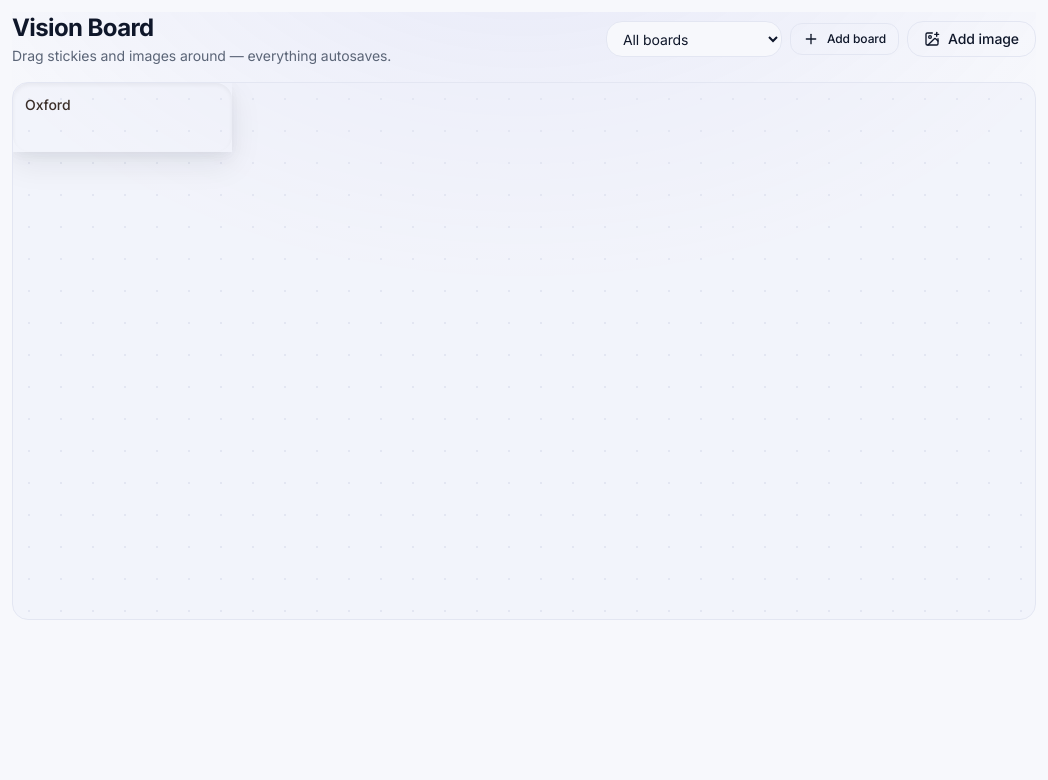
Test: the vision board switcher › scopes the canvas to the chosen board instead of only opening rename
Select "Travel more" in the dropdown named "Switch vision board": (694, 39) 606,21 -> 782,57
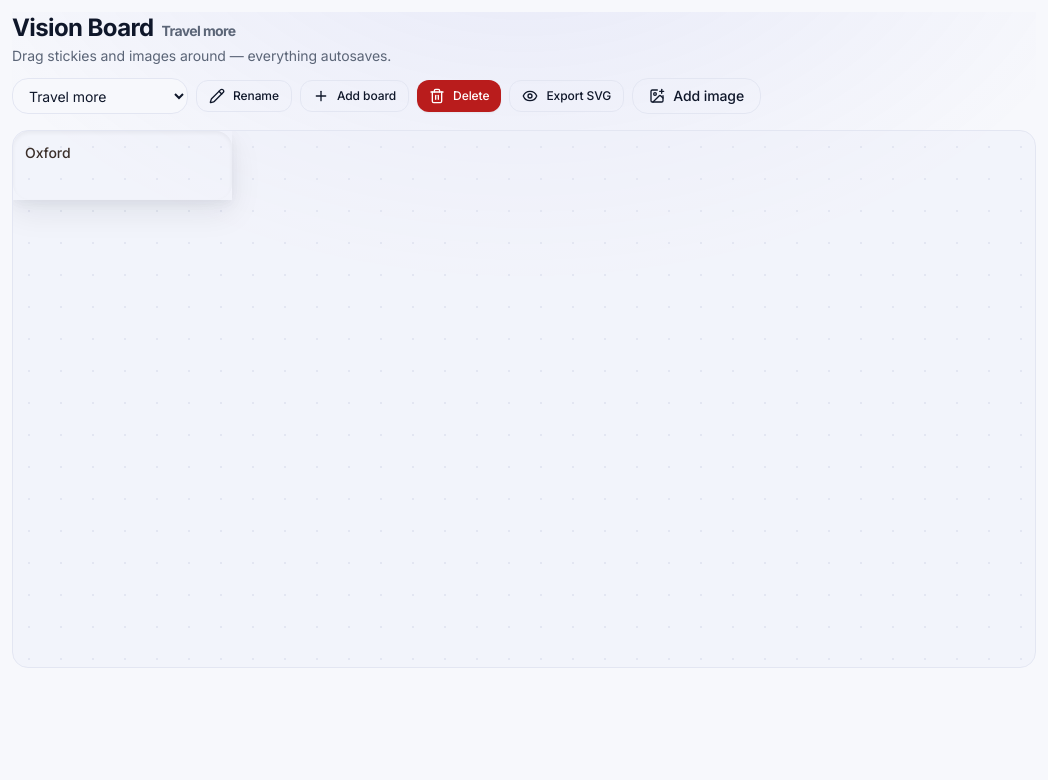
Expected: the text "Travel more" is shown, 162,22 -> 236,39
